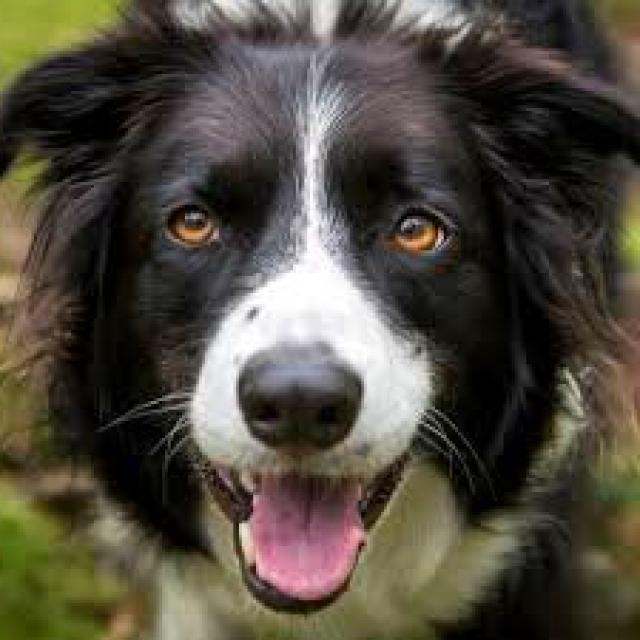dog: (3, 0, 640, 637)
